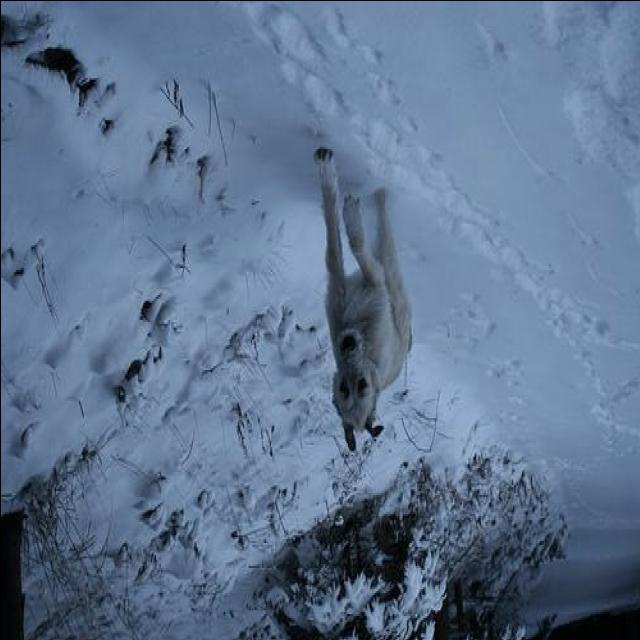irish_wolfhound: (314, 146, 412, 450)
